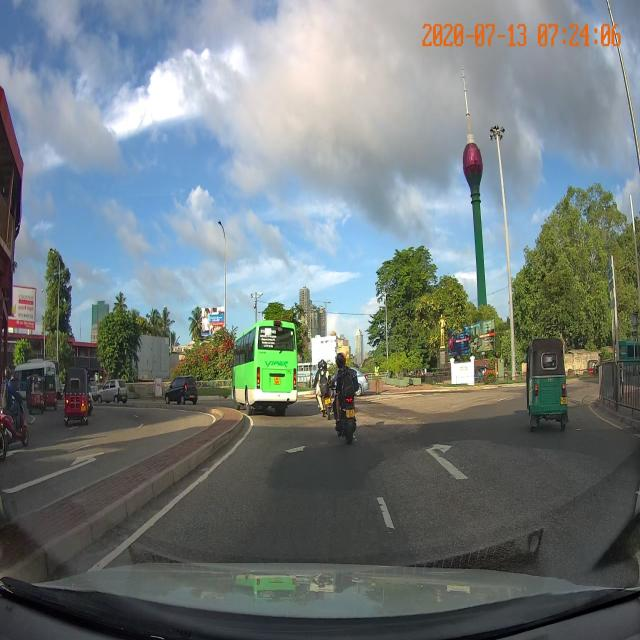Strelka vlevo: (0, 452, 109, 496)
Strelka vpravo: (423, 442, 472, 482)
